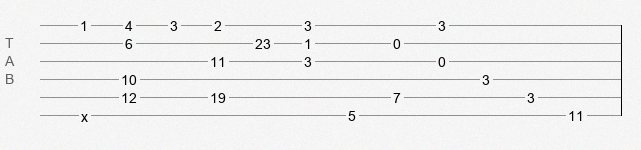0: (393, 36, 401, 46), (438, 54, 446, 64)
1: (80, 18, 88, 28), (304, 36, 312, 46)
10: (121, 72, 137, 82)
11: (210, 54, 226, 64), (568, 108, 584, 118)
12: (121, 90, 137, 100)
19: (210, 90, 226, 100)
2: (214, 18, 222, 28)
23: (255, 36, 271, 46)
3: (170, 18, 178, 28), (304, 18, 312, 28), (304, 54, 312, 64), (438, 18, 446, 28), (482, 72, 490, 82), (527, 90, 535, 100)
4: (125, 18, 133, 28)
5: (348, 108, 356, 118)
6: (125, 36, 133, 46)
7: (393, 90, 401, 100)
x: (81, 109, 88, 117)
